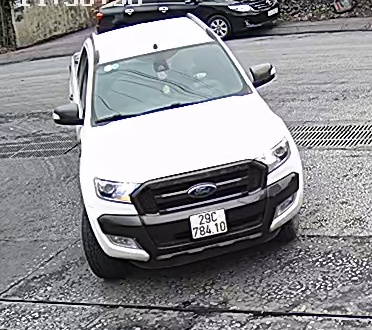vehicle plate: (187, 206, 229, 236)
